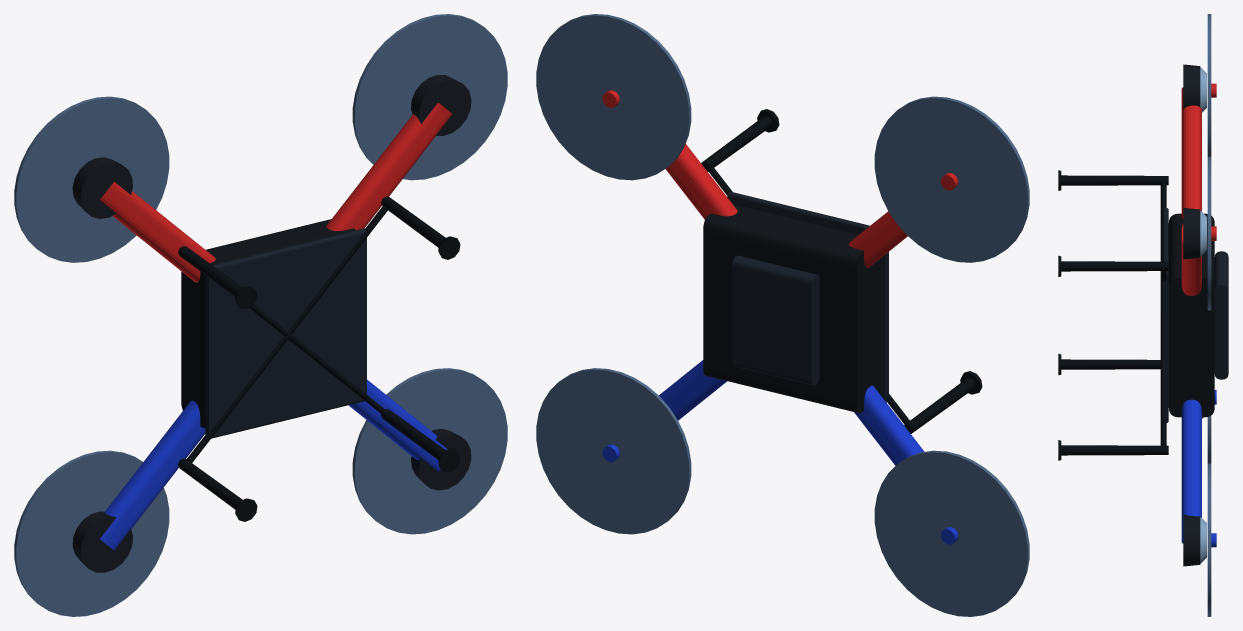
The model's file is quadrotor.obj.
3 views of the same model, side by side, from view 1: azimuth 30°, elevation 25°; view 2: azimuth 150°, elevation 25°; view 3: azimuth 270°, elevation 25° (orthographic). The views are drawn at different scales.
Visible parts, largest first — view 1: prop_grey_5, body_mid_1, motor_dark_3, red_metal_2, leg_dark_7, blue_metal_6, body_dark_0; view 2: prop_grey_5, body_dark_0, body_mid_1, blue_metal_6, red_metal_2, leg_dark_7; view 3: body_dark_0, leg_dark_7, red_metal_2, body_mid_1, blue_metal_6, motor_dark_3, prop_grey_5, motor_silver_4.
Boxes of the visible parts, bbox=[...] form: prop_grey_5: bbox=[14, 14, 507, 616]; body_mid_1: bbox=[205, 228, 366, 438]; motor_dark_3: bbox=[72, 75, 471, 572]; red_metal_2: bbox=[100, 102, 451, 282]; leg_dark_7: bbox=[178, 196, 460, 521]; blue_metal_6: bbox=[100, 379, 447, 550]; body_dark_0: bbox=[181, 219, 355, 428]; prop_grey_5: bbox=[536, 14, 1029, 616]; body_dark_0: bbox=[703, 204, 882, 413]; body_mid_1: bbox=[727, 191, 888, 402]; blue_metal_6: bbox=[602, 360, 958, 544]; red_metal_2: bbox=[602, 90, 958, 267]; leg_dark_7: bbox=[701, 109, 982, 433]; body_dark_0: bbox=[1168, 213, 1214, 417]; leg_dark_7: bbox=[1058, 170, 1168, 460]; red_metal_2: bbox=[1181, 83, 1216, 295]; body_mid_1: bbox=[1162, 207, 1228, 422]; blue_metal_6: bbox=[1181, 390, 1216, 547]; motor_dark_3: bbox=[1183, 64, 1200, 566]; prop_grey_5: bbox=[1207, 14, 1211, 616]; motor_silver_4: bbox=[1200, 67, 1206, 563].
Bounding box in the file's own units: 0.8006 × 0.8006 × 0.2774.
